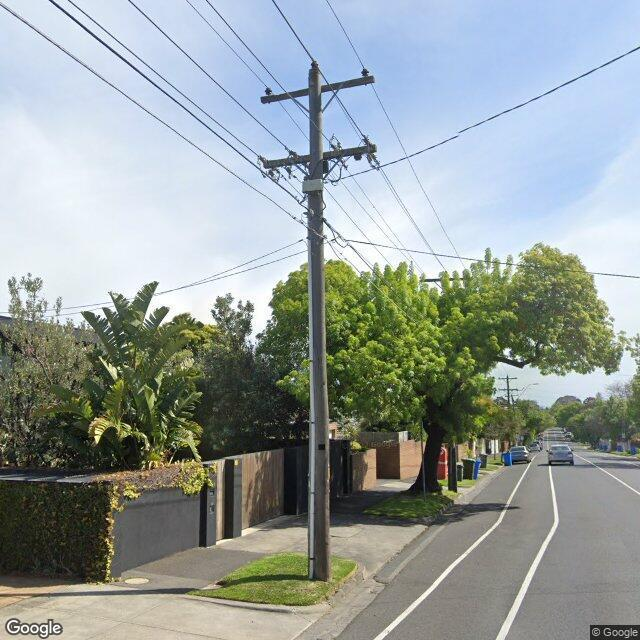HV-transmission: (262, 60, 376, 105), (498, 374, 518, 380)
crossarm: (257, 134, 381, 185), (260, 75, 375, 103), (498, 387, 518, 392), (500, 378, 516, 380)
streetlight: (518, 382, 539, 400)
timber-pole: (307, 70, 330, 580), (506, 376, 509, 402)
